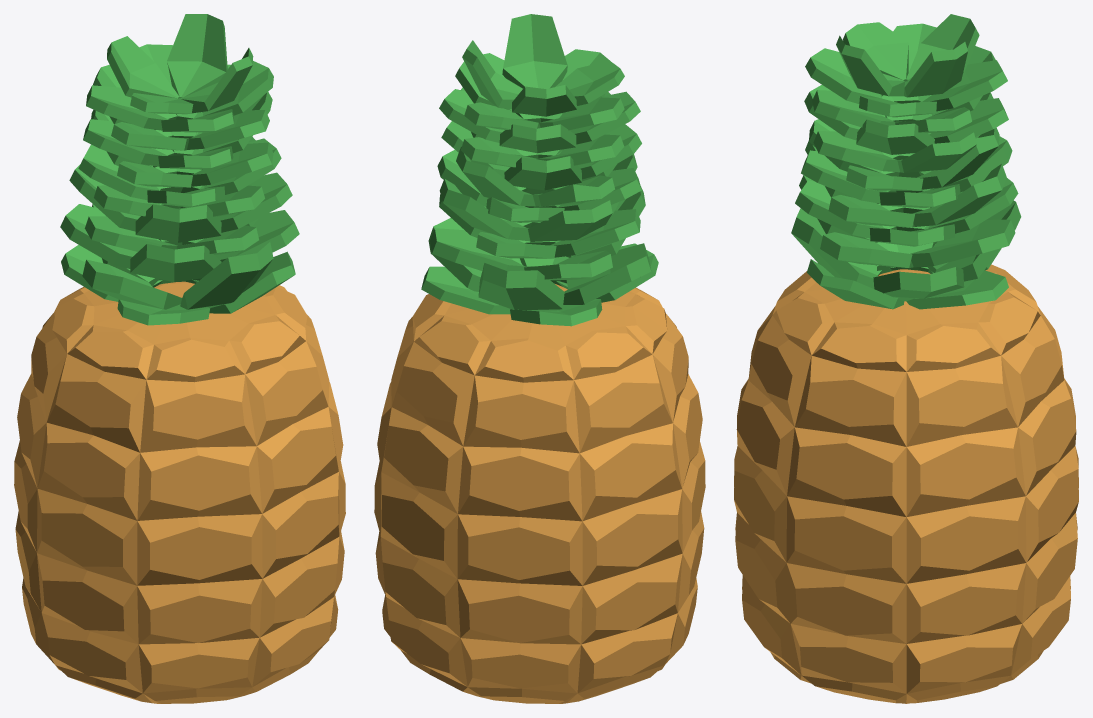
Rendered from pine.glb.
The picture shows the model from 3 angles, left to right: view 1: azimuth 30°, elevation 25°; view 2: azimuth 150°, elevation 25°; view 3: azimuth 270°, elevation 25°; orthographic projection. The views are drawn at different scales.
Visible parts, largest first — view 1: node-0; view 2: node-0; view 3: node-0.
Part boxes in pixels (box(x1,y1,x2,y2)): node-0: box(14, 14, 345, 703); node-0: box(374, 14, 705, 703); node-0: box(734, 14, 1078, 703).
Bounding box in the file's own units: 5.94 × 12.21 × 5.94.
